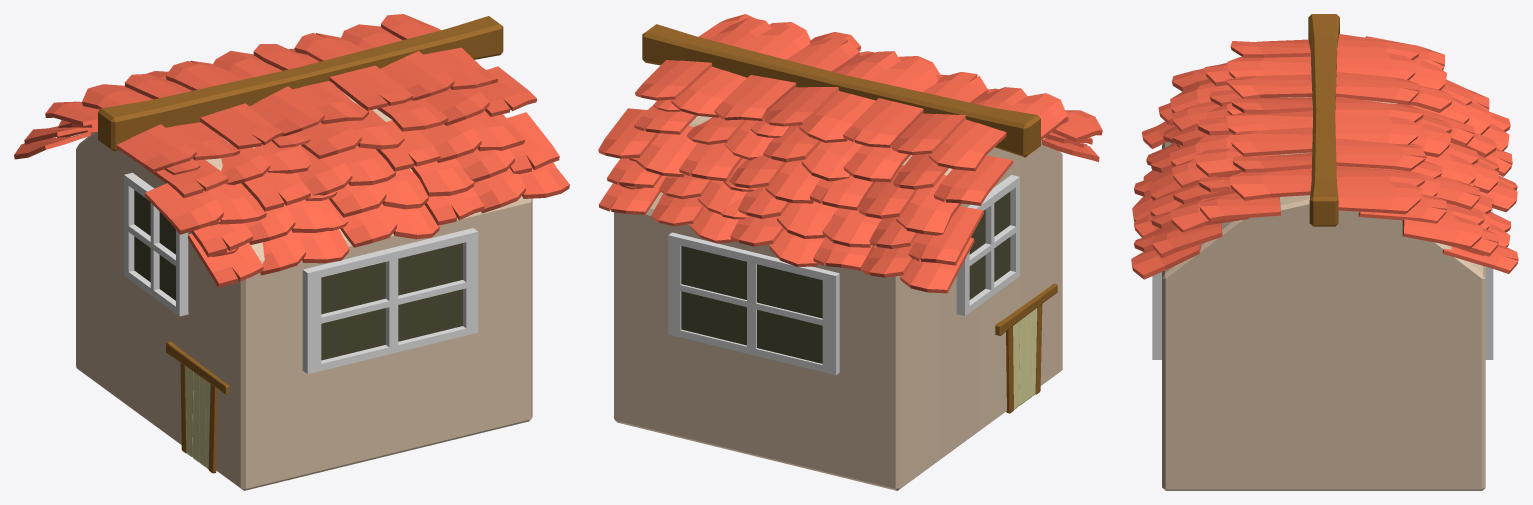
File: ANDHouse.fbx
3 views of the same model, side by side, from view 1: azimuth 30°, elevation 25°; view 2: azimuth 150°, elevation 25°; view 3: azimuth 270°, elevation 25° (orthographic). The views are drawn at different scales.
Visible parts, largest first — view 1: ANDHouse, Tejas1OR, WindowsMat.001, Tejas1OR.001, Top, WindowsMat, Door; view 2: ANDHouse, Tejas1OR.001, WindowsMat.002, Tejas1OR, Top, WindowsMat, Door; view 3: ANDHouse, Tejas1OR.001, Tejas1OR, Top, WindowsMat.001, WindowsMat.002.
Part boxes in pixels (box(x1,y1,x2,y2)): ANDHouse: box(76, 92, 532, 490); Tejas1OR: box(116, 47, 569, 287); WindowsMat.001: box(302, 228, 478, 373); Tejas1OR.001: box(14, 14, 440, 159); Top: box(98, 16, 503, 151); WindowsMat: box(124, 172, 188, 316); Door: box(166, 341, 229, 473); ANDHouse: box(614, 116, 1062, 490); Tejas1OR.001: box(598, 60, 1013, 293); WindowsMat.002: box(668, 232, 839, 375); Tejas1OR: box(698, 14, 1102, 162); Top: box(642, 24, 1040, 157); WindowsMat: box(956, 175, 1019, 315); Door: box(995, 283, 1057, 413); ANDHouse: box(1162, 97, 1485, 490); Tejas1OR.001: box(1335, 34, 1518, 273); Tejas1OR: box(1131, 39, 1312, 279); Top: box(1308, 14, 1339, 226); WindowsMat.001: box(1152, 272, 1161, 359); WindowsMat.002: box(1485, 208, 1493, 359).
Bounding box in the file's own units: 81.09 × 64.87 × 71.66.
